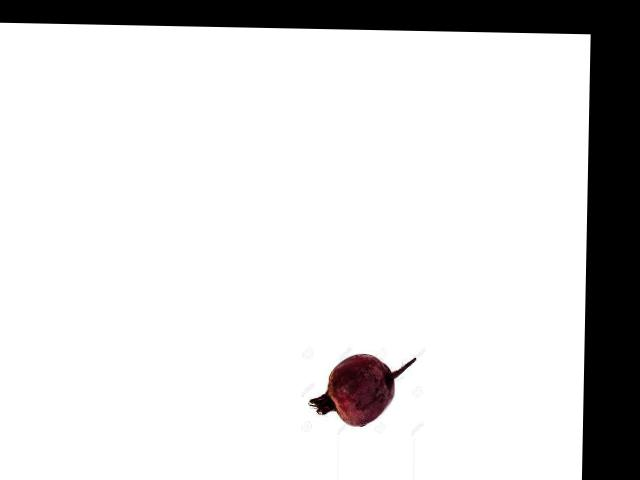beet: (308, 353, 414, 426)
